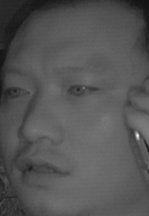eye: (66, 80, 98, 100), (5, 83, 31, 101)
mouth: (13, 150, 75, 188)
